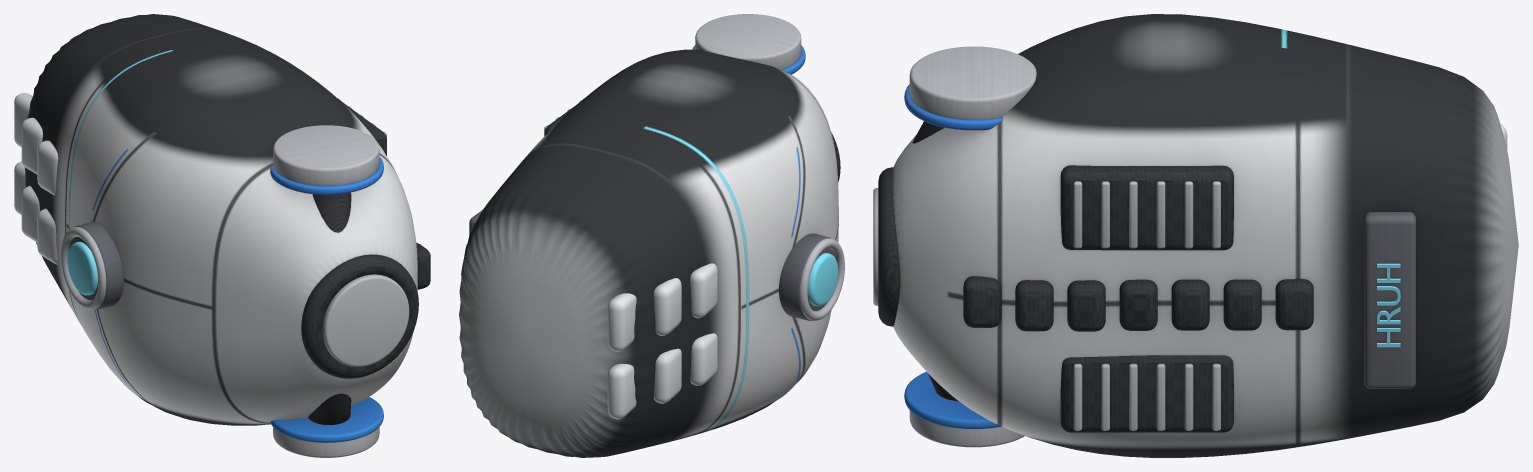
File: chest_v2.obj
The picture shows the model from 3 angles, left to right: view 1: azimuth 30°, elevation 25°; view 2: azimuth 150°, elevation 25°; view 3: azimuth 270°, elevation 25°; orthographic projection. The views are drawn at different scales.
Visible parts, largest first — view 1: chest_v2; view 2: chest_v2; view 3: chest_v2.
Boxes of the visible parts, box(x1,y1,x2,y2) form: chest_v2: box(14, 14, 430, 457); chest_v2: box(459, 14, 844, 457); chest_v2: box(873, 14, 1518, 457).
Bounding box in the file's own units: 0.2184 × 0.2462 × 0.3722.
1 material, 1 textured.
